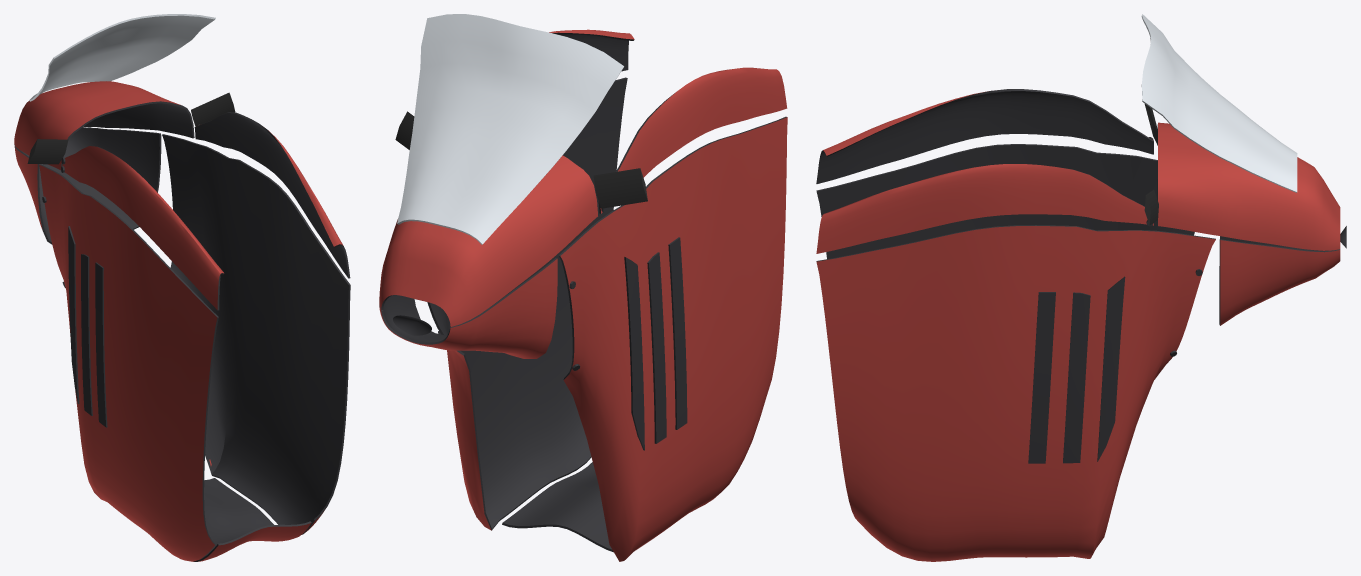
Rendered from race.glb.
3 renders of one model, left to right at view 1: azimuth 30°, elevation 25°; view 2: azimuth 150°, elevation 25°; view 3: azimuth 270°, elevation 25°, orthographic. The views are drawn at different scales.
Parts seen in each view (by area): view 1: lod0; view 2: lod0; view 3: lod0.
Part boxes in pixels (bbox=[...]): lod0: bbox=[14, 14, 350, 561]; lod0: bbox=[379, 14, 787, 561]; lod0: bbox=[816, 14, 1346, 561].
Size of what is drawn, in the model's own units: 0.5072 by 1.06 by 1.02.
